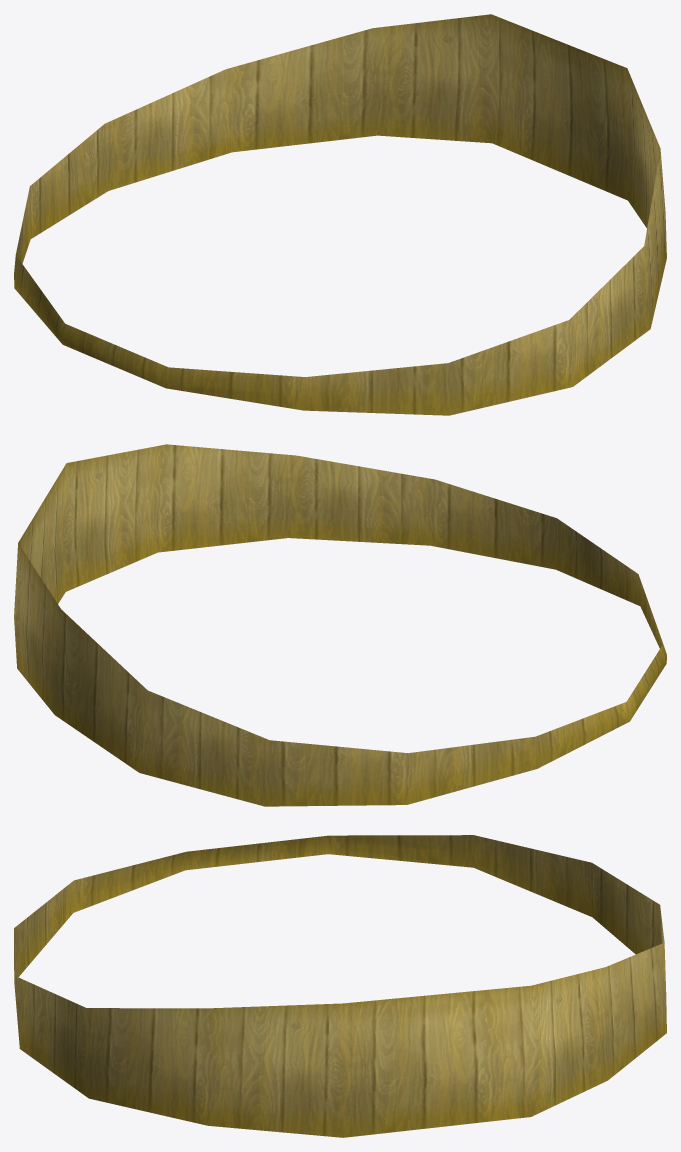
The model's file is HTOWN01_HANNA-WALLS.fbx.
3 renders of one model, top to bottom at view 1: azimuth 30°, elevation 25°; view 2: azimuth 150°, elevation 25°; view 3: azimuth 270°, elevation 25°, orthographic. The views are drawn at different scales.
Visible parts, largest first — view 1: HTOWN01_HANNA-WALLS; view 2: HTOWN01_HANNA-WALLS; view 3: HTOWN01_HANNA-WALLS.
Boxes of the visible parts, x1,y1,x2,y2 form: HTOWN01_HANNA-WALLS: (14,14,666,415); HTOWN01_HANNA-WALLS: (14,444,666,806); HTOWN01_HANNA-WALLS: (14,835,666,1137).
Bounding box in the file's own units: 68591 × 17054 × 66601.
Materials: 1 (1 with a texture image).
